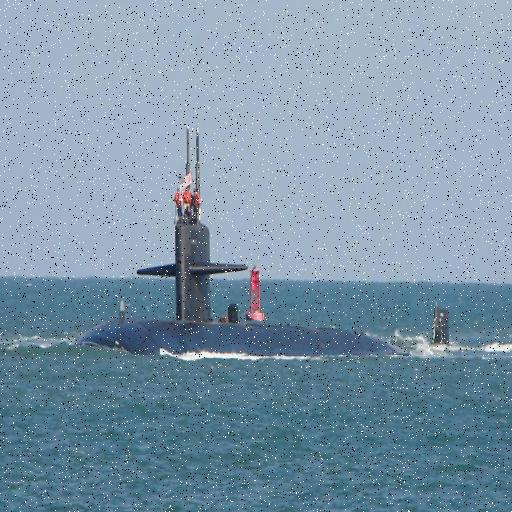submarine: (62, 220, 451, 354)
